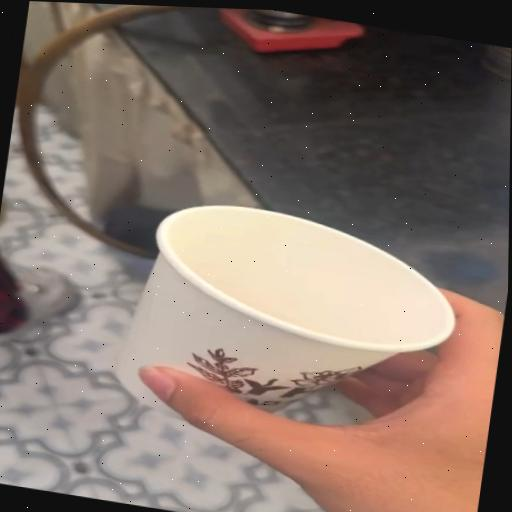Ly_giay: (116, 206, 455, 412)
